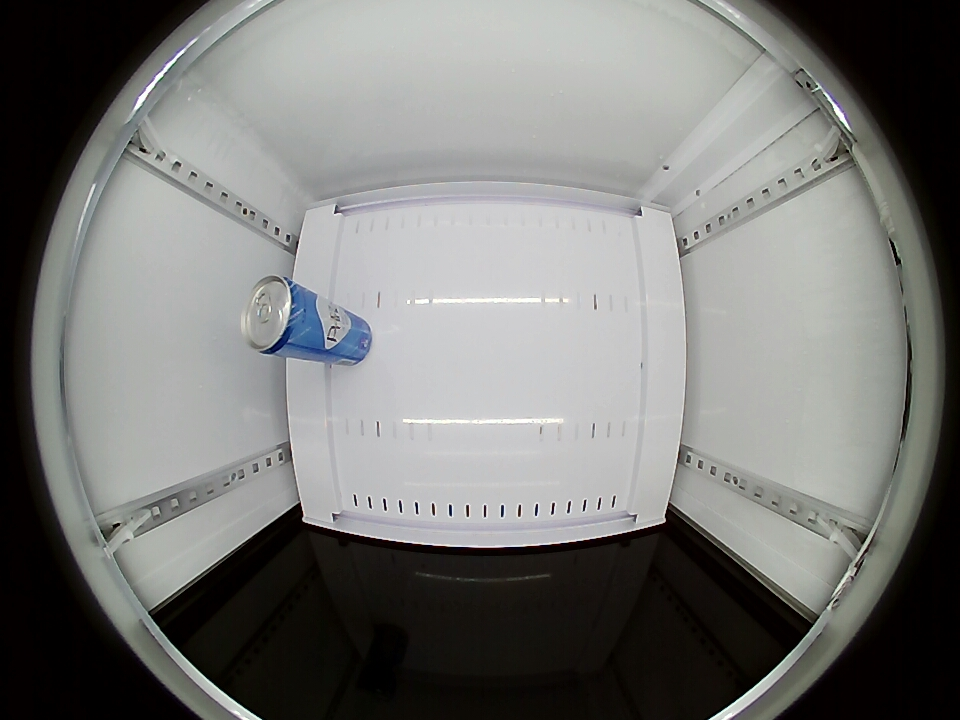qingdaowangzi-2: (242, 276, 316, 357)
